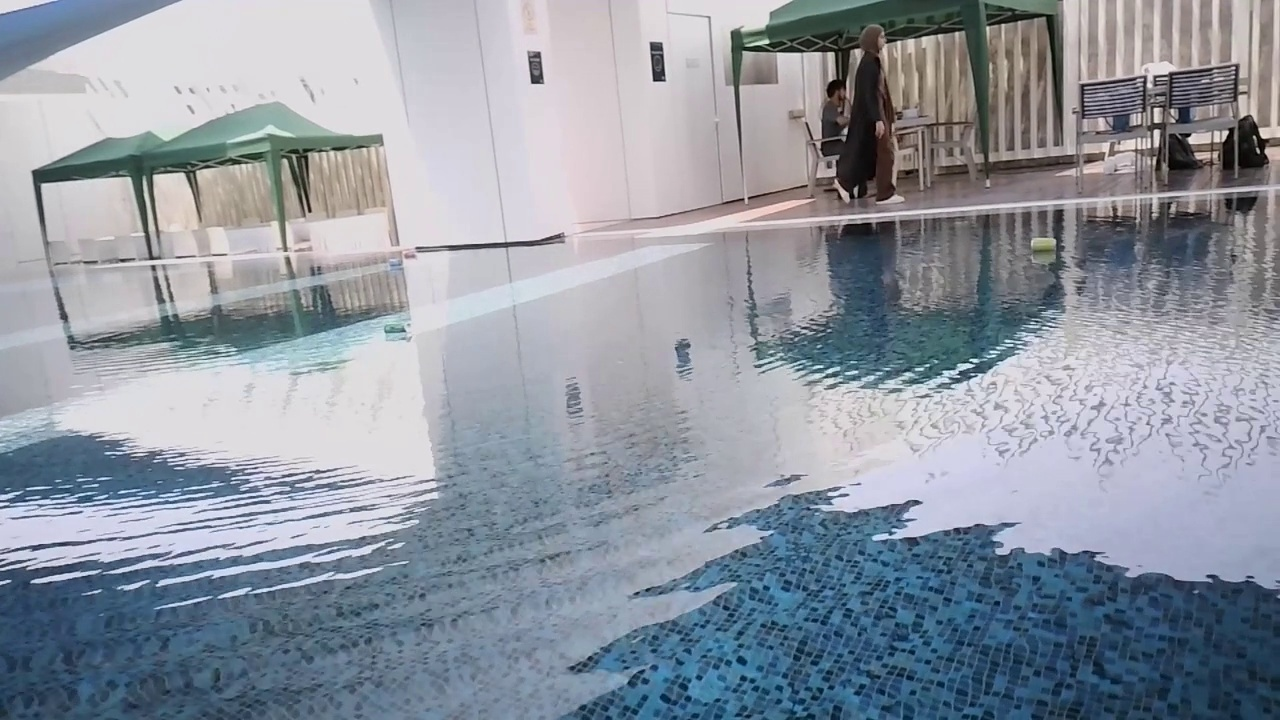debris: (380, 315, 418, 340), (1028, 229, 1059, 257), (383, 254, 405, 271), (395, 246, 419, 261)
